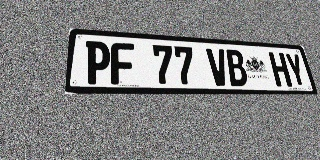7: (151, 45, 176, 85), (173, 46, 197, 86)
B: (224, 49, 249, 86)
F: (111, 42, 135, 85)
H: (268, 52, 292, 87)
P: (84, 41, 110, 84)
V: (206, 48, 230, 86)
Y: (284, 53, 308, 87)
